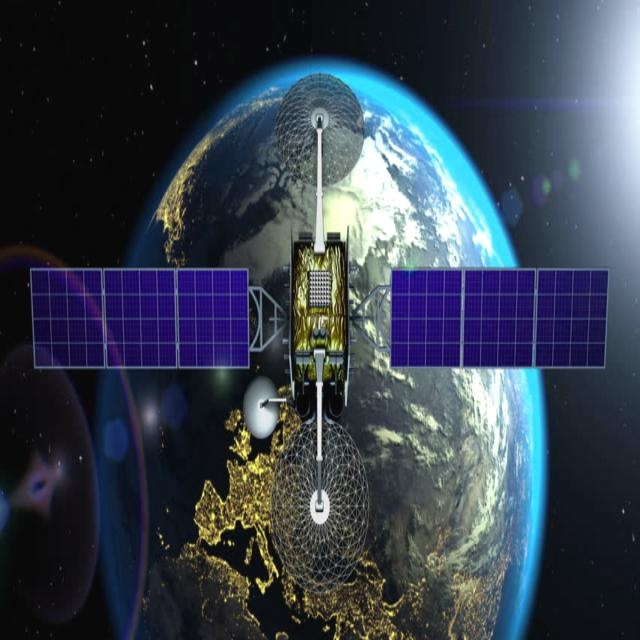medium_debris: (0, 90, 633, 553)
